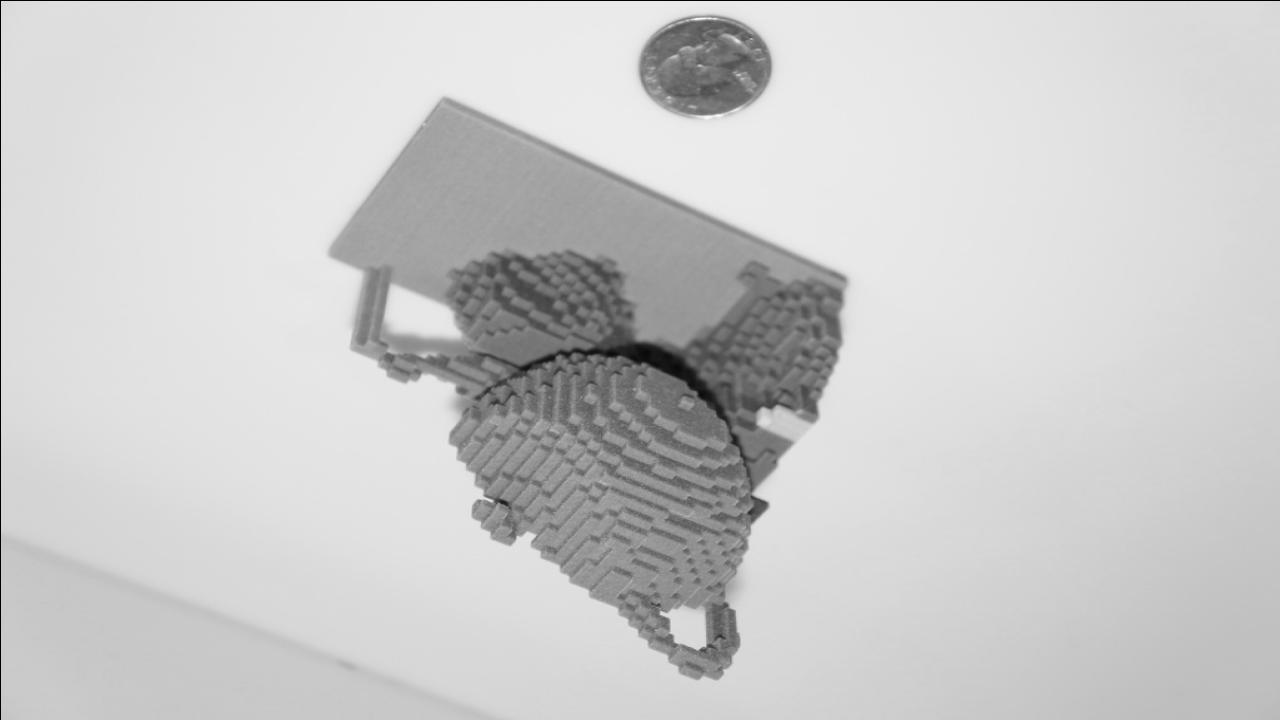coin: (635, 14, 774, 120)
